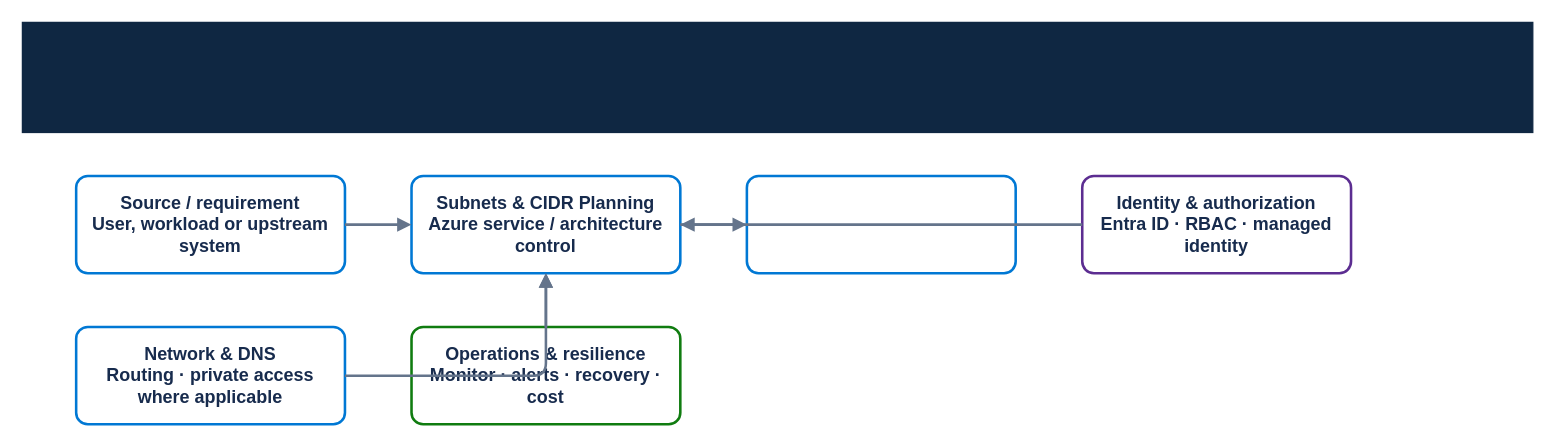
The diagram is 1555 pixels wide and 448 high, and some of its shapes have lost their labels. The shapes that lost their labels are listed below. From the top down, each one's centre as x and y in pixels, then its label:
At pixel 777 76: "Subnets & CIDR Planning".
At pixel 880 224: "Workload / consumer Application, data or operational outcome".
